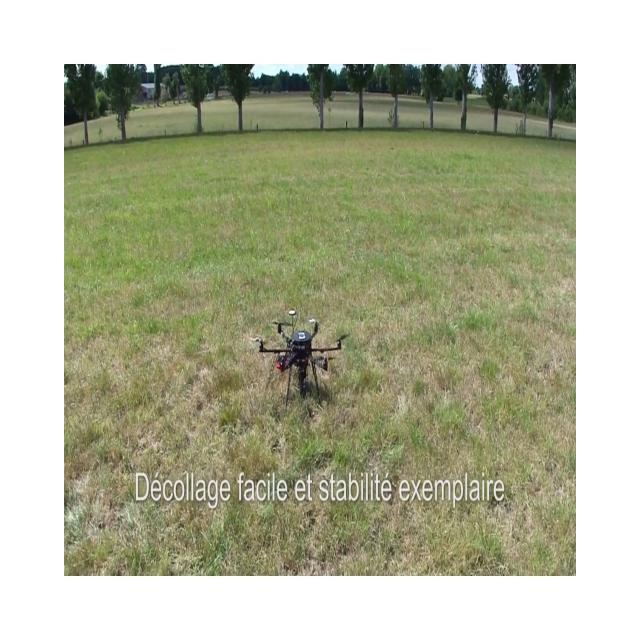drone: (249, 307, 350, 412)
